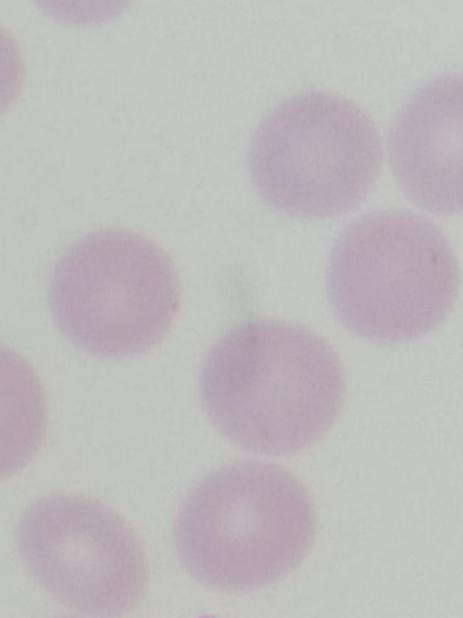Uninfected: (200, 322, 342, 455), (175, 461, 314, 591), (329, 207, 458, 341), (50, 228, 177, 358), (250, 95, 381, 219), (16, 492, 145, 613)
